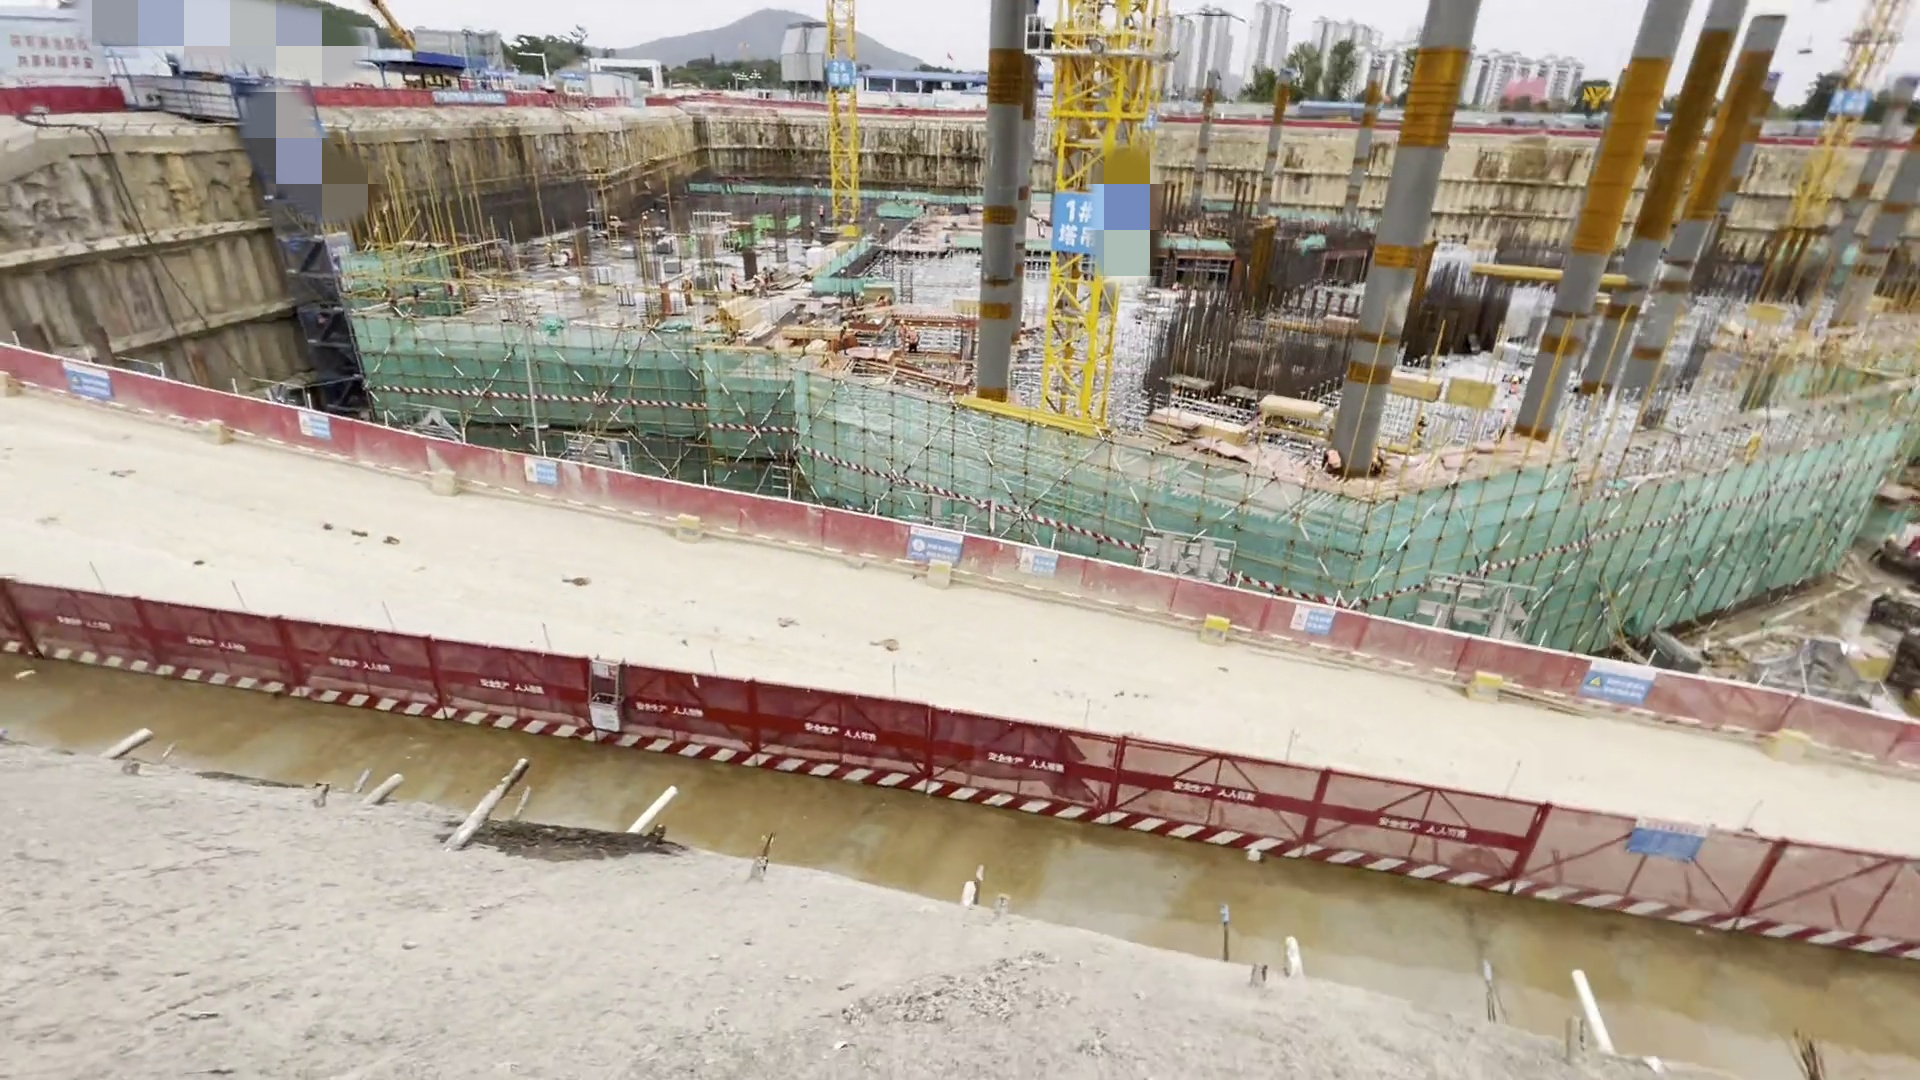fence: (1, 357, 1919, 948)
slogan: (1601, 787, 1720, 887), (1, 16, 102, 74), (1586, 654, 1662, 713), (901, 524, 971, 574), (1015, 535, 1058, 589), (303, 400, 343, 454), (70, 360, 117, 400), (520, 452, 563, 493), (1284, 603, 1331, 638)
